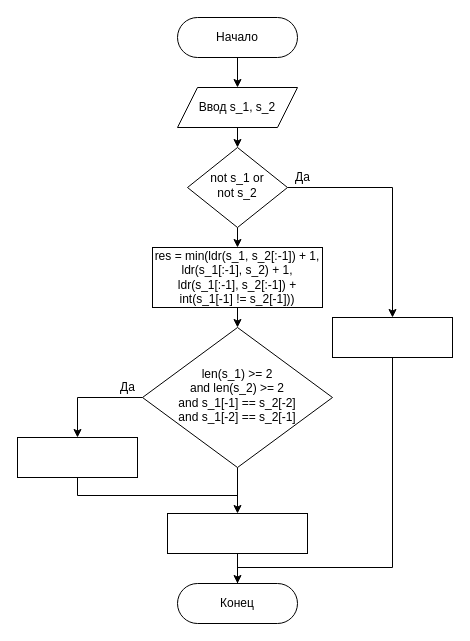
This 470x641 diagram has some shape labels left out. Each missing label, with the box of its shape:
res = min(res, ldr(s_1[:-2], s_2[:-2]) + 1): (16, 436, 138, 478)
return max(len(s_1), len(s_2)): (332, 316, 452, 358)
return res: (166, 512, 308, 554)
